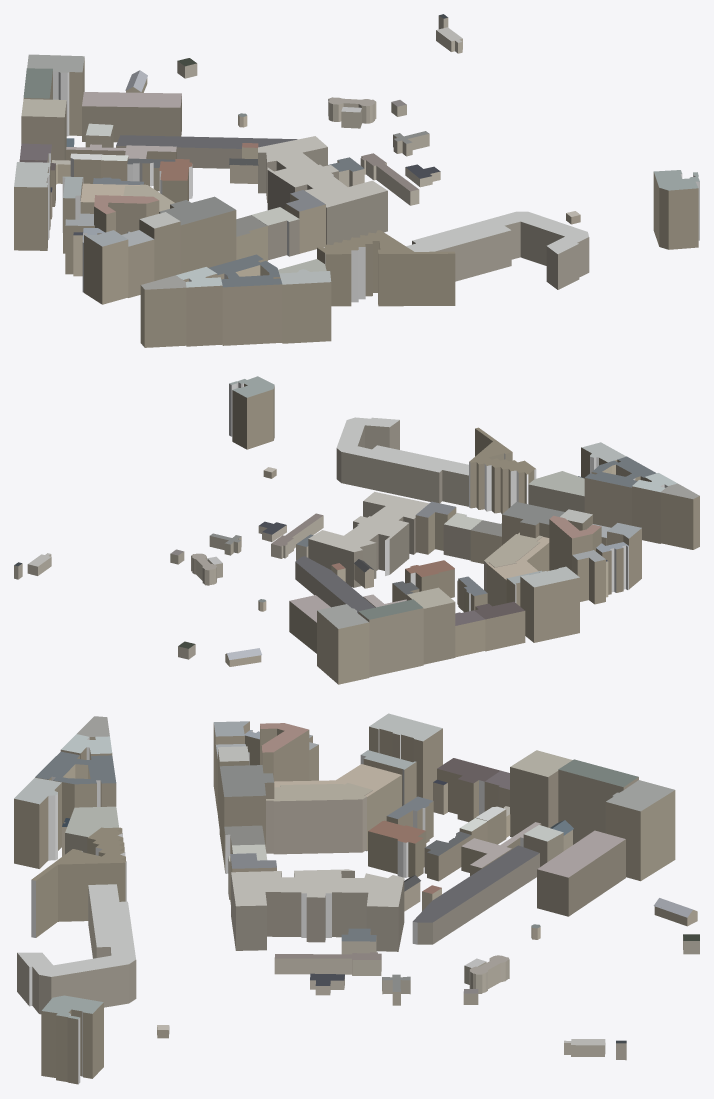
3 renders of one model, top to bottom at view 1: azimuth 30°, elevation 25°; view 2: azimuth 150°, elevation 25°; view 3: azimuth 270°, elevation 25°, orthographic. The views are drawn at different scales.
Parts seen in each view (by area): view 1: tuile; view 2: tuile; view 3: tuile.
Boxes of the visible parts, box(x1,y1,x2,y2) form: tuile: box(14, 14, 699, 347); tuile: box(14, 376, 699, 684); tuile: box(14, 713, 699, 1084).
Bounding box in the file's own units: 262 × 36.9 × 259.
